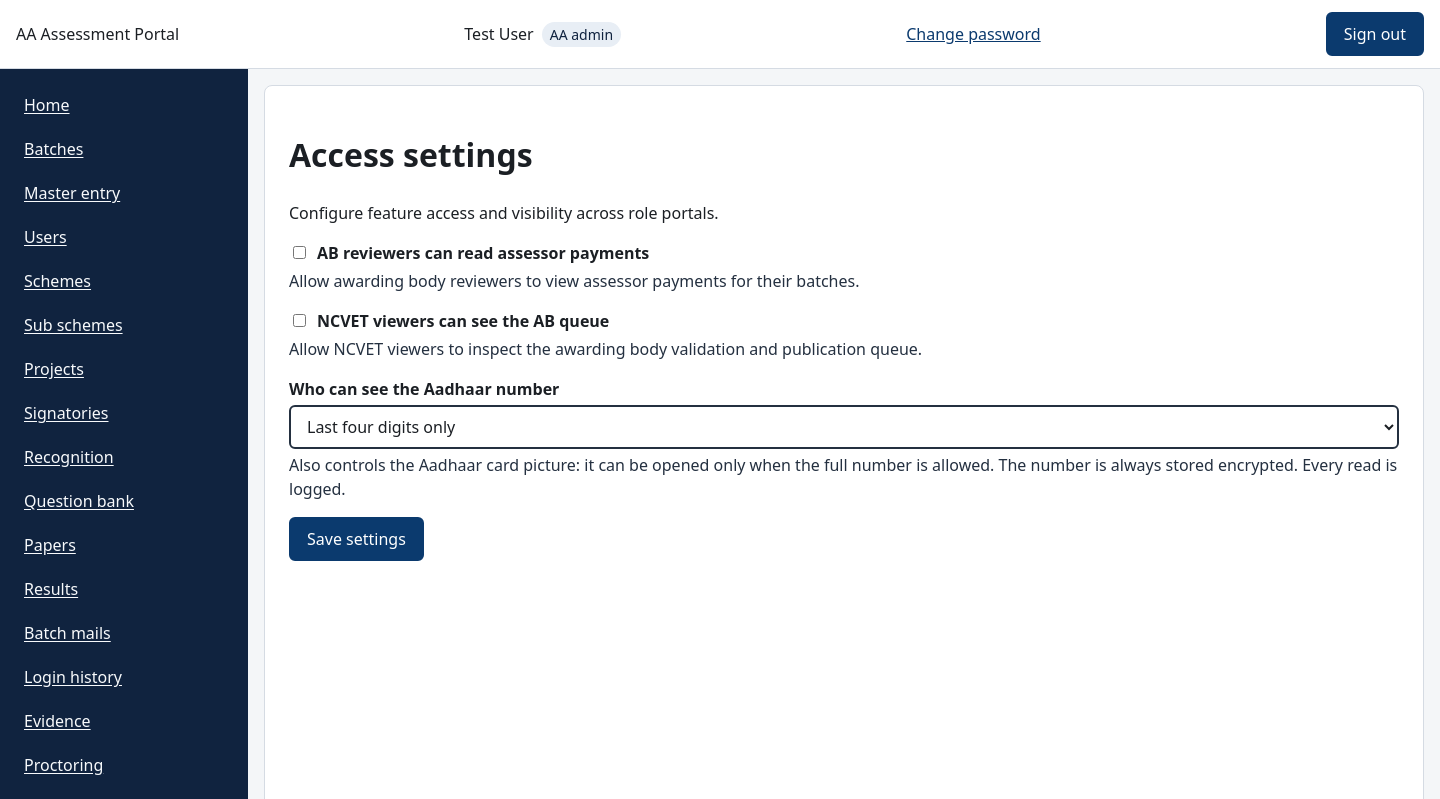
Test case: saves a toggle change with PUT /settings/access, showing saving, disabled, and success states
Click the checkbox labelled "NCVET viewers can see the AB queue". click: (300, 321)
box: [293, 314, 306, 327]
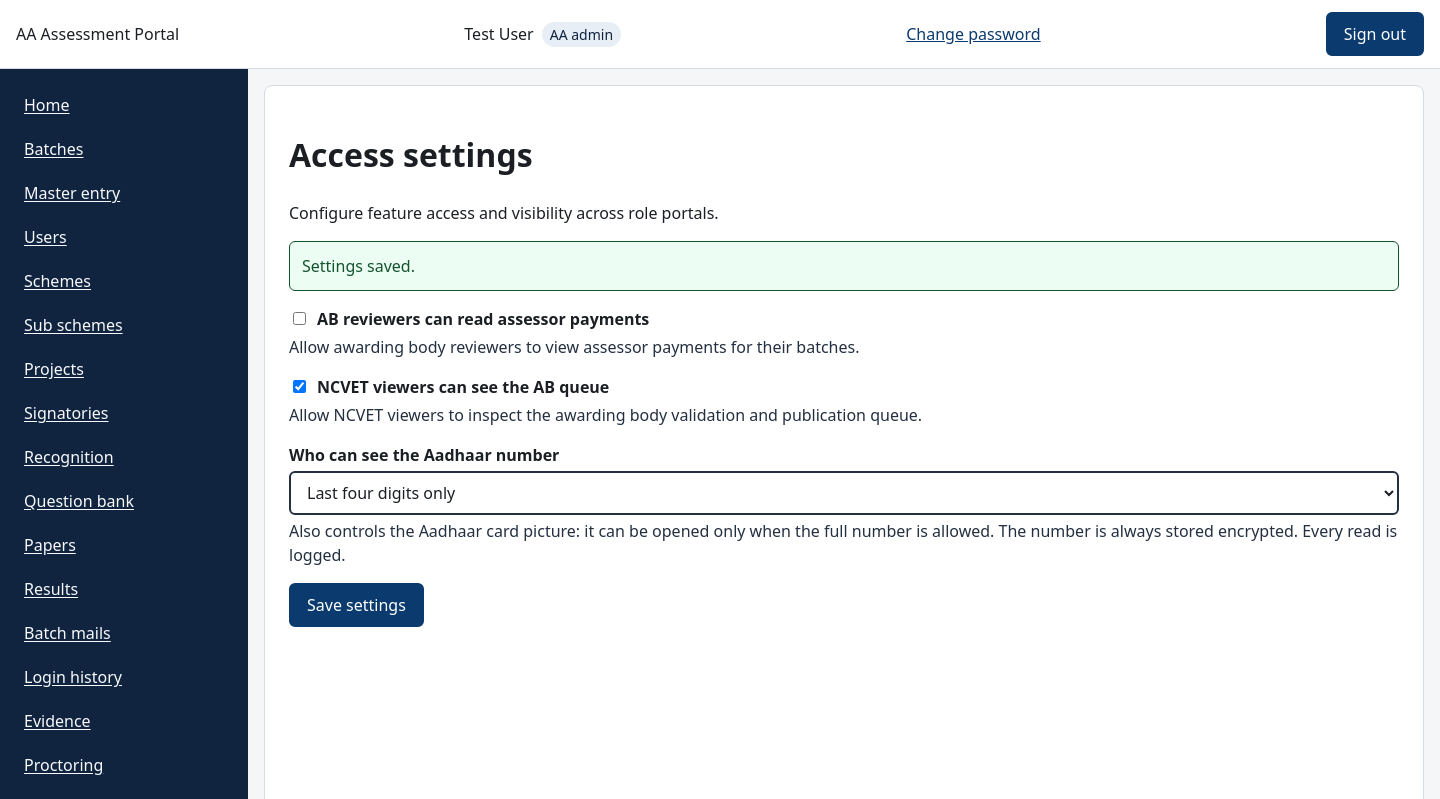
Expected: the checkbox labelled "NCVET viewers can see the AB queue" is checked, [293, 380, 306, 393]
Expected: the text "Settings saved." is shown, [289, 241, 1399, 291]
